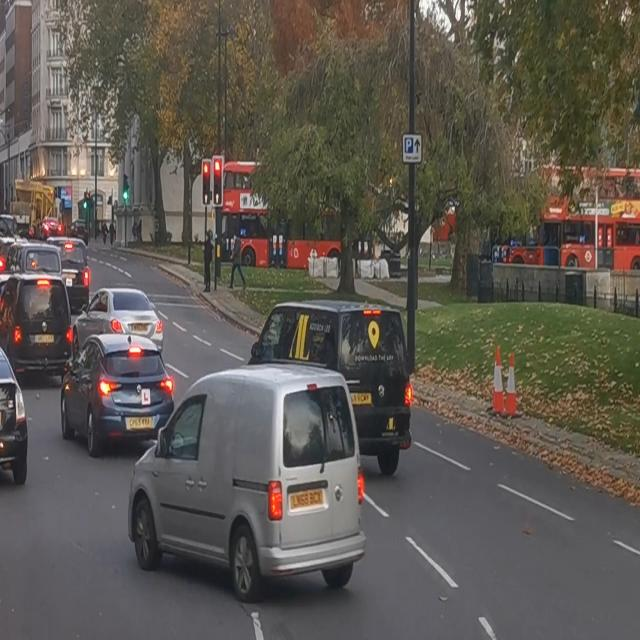Car: (132, 372, 364, 592), (258, 305, 416, 442), (58, 337, 175, 455), (0, 276, 72, 374), (76, 276, 170, 348), (51, 233, 93, 312)
